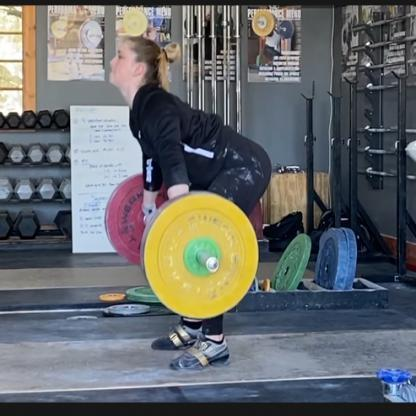barbell: (104, 175, 260, 319)
